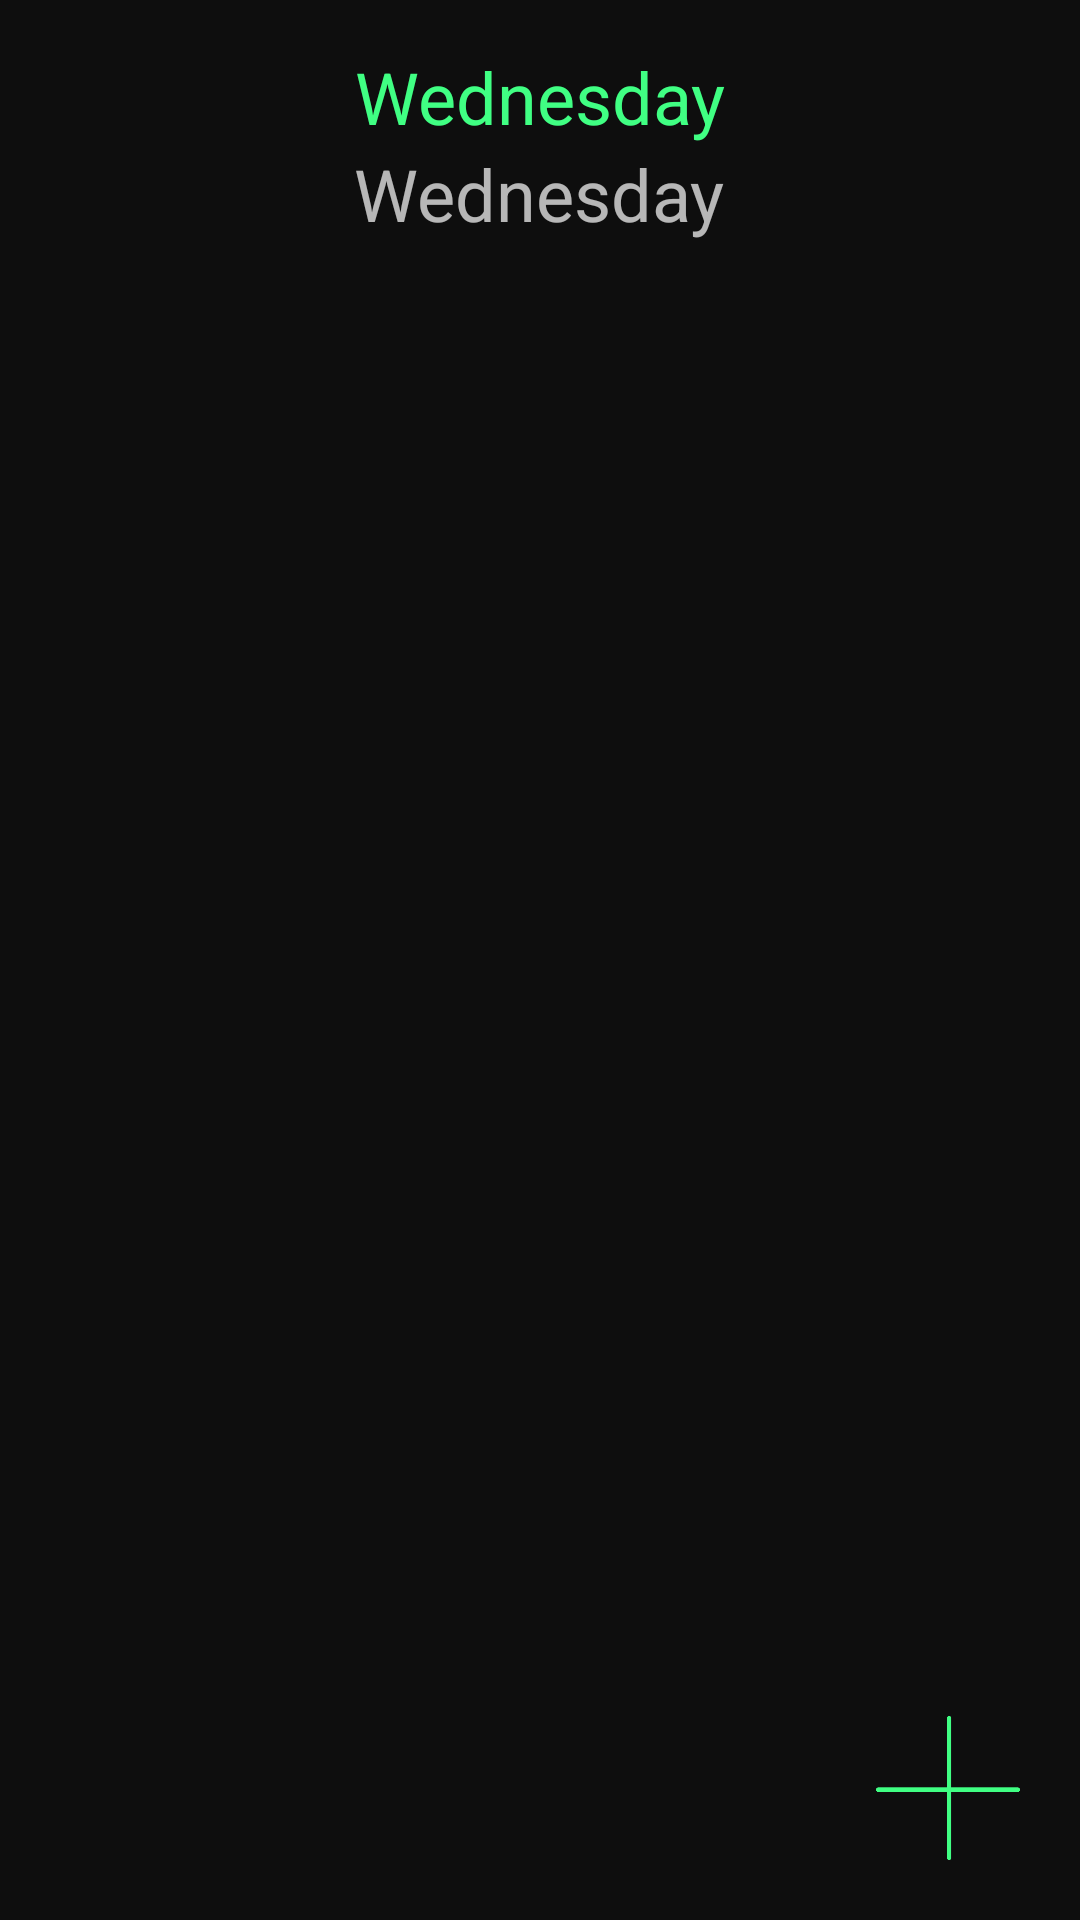

Icon bounding boxes for this 1080px×1920px phone screenshot, format [x1,y1,x2,y2]:
plus: [876,1716,1020,1860]
